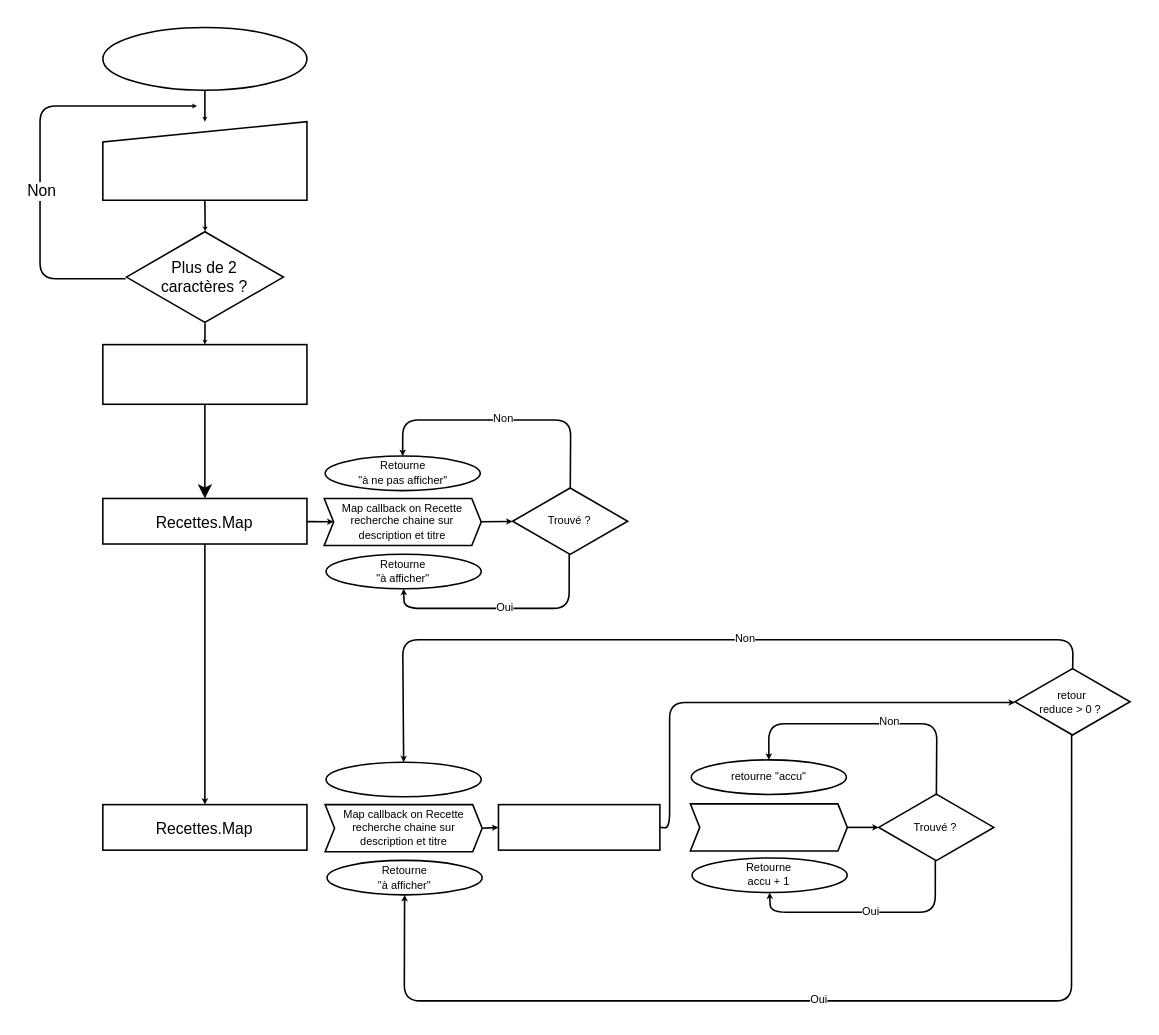
Some shapes in this 1159 by 1035 pixel diagram are drawn without their labels. The shapes that lost their labels are listed below. From the top down, each one's box as (x1, y1, x2, y2) in pixels, then its label:
(101, 26, 307, 90): Début
(101, 120, 307, 200): Attente caractère
(101, 343, 307, 404): Normalisation chaine de caracteres
(325, 761, 481, 797): Fin
(497, 803, 660, 850): Ingredients.reduce
(689, 802, 847, 851): Reduce callback on Ingredient recherche chaine sur ingredient
